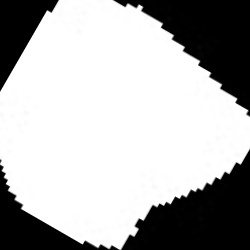spot: (1, 2, 250, 249)
